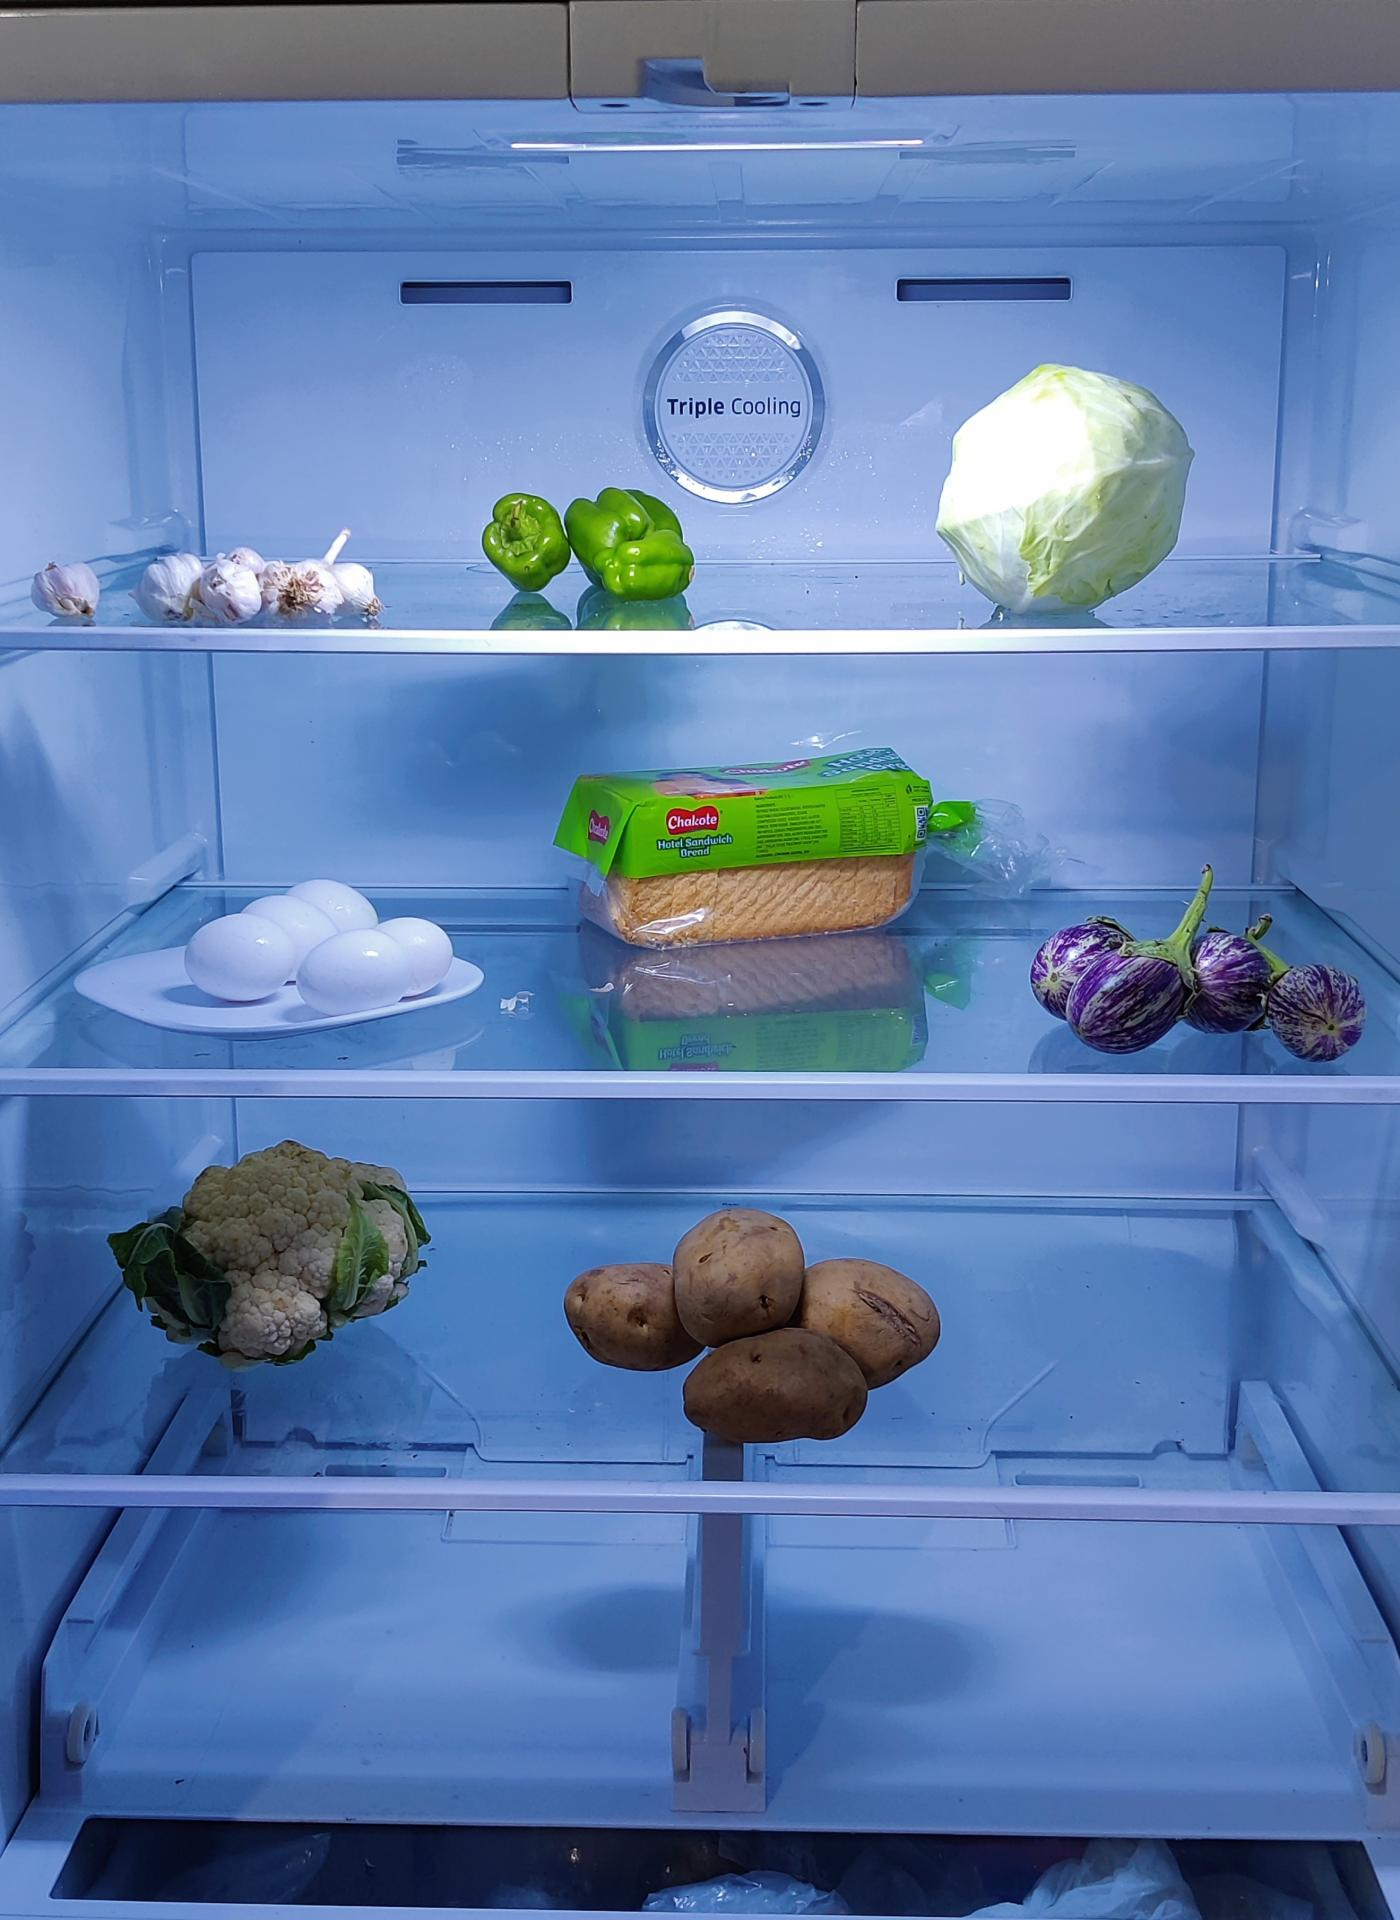bread: (561, 736, 953, 948)
brinjal: (1026, 908, 1372, 1070)
cabbage: (939, 370, 1196, 620)
capsicum: (480, 476, 699, 599)
cauliflower: (118, 1139, 429, 1368)
egg: (177, 869, 476, 1030)
garlic: (140, 528, 385, 635)
potato: (559, 1196, 942, 1446)
